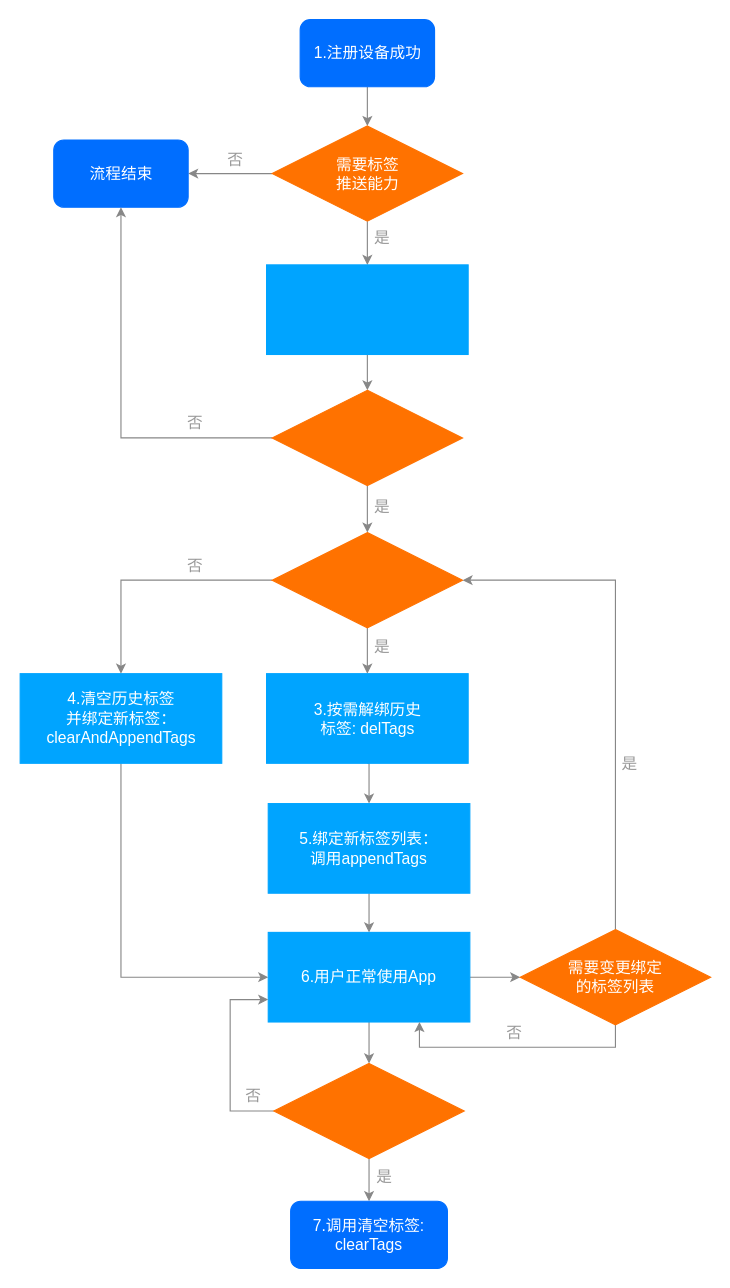
Some shapes in this 730 by 1288 pixel diagram are drawn without their labels. Each missing label, with the box of its shape:
2.获取要绑定的标签列表: (265, 264, 468, 354)
历史绑定的标签 需要关心推送: (271, 531, 463, 628)
完全关闭标签 推送能力: (273, 1062, 464, 1159)
是否获取成功: (271, 389, 463, 486)
